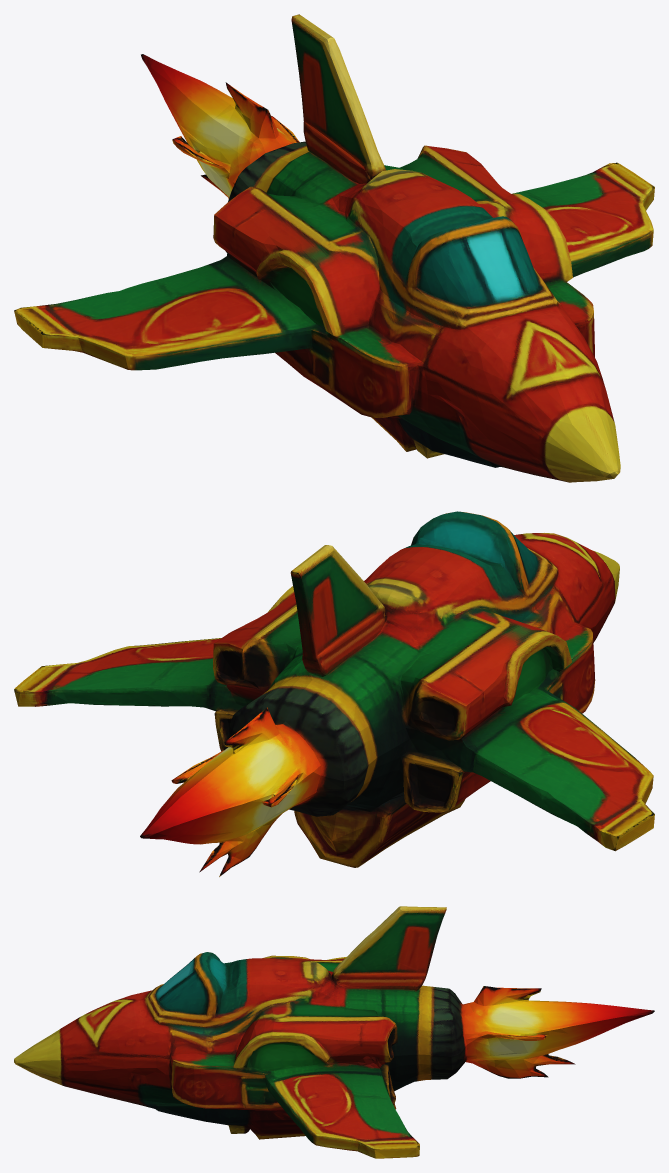
The model's file is Copilot3D-b8464b93-a218-4b19-bd31-224481d88d2c.glb.
3 renders of one model, top to bottom at view 1: azimuth 30°, elevation 25°; view 2: azimuth 150°, elevation 25°; view 3: azimuth 270°, elevation 25°, orthographic. The views are drawn at different scales.
Parts seen in each view (by area): view 1: world; view 2: world; view 3: world.
Part boxes in pixels (box(x1,y1,x2,y2)): world: box(14, 14, 654, 482); world: box(14, 511, 654, 876); world: box(14, 906, 654, 1158).
Bounding box in the file's own units: 0.7479 × 0.3871 × 1.
1 material, 1 textured.
